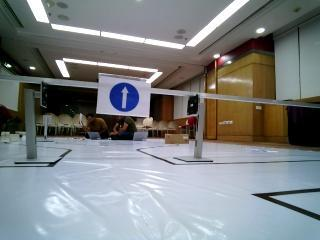straight: (95, 70, 152, 116)
